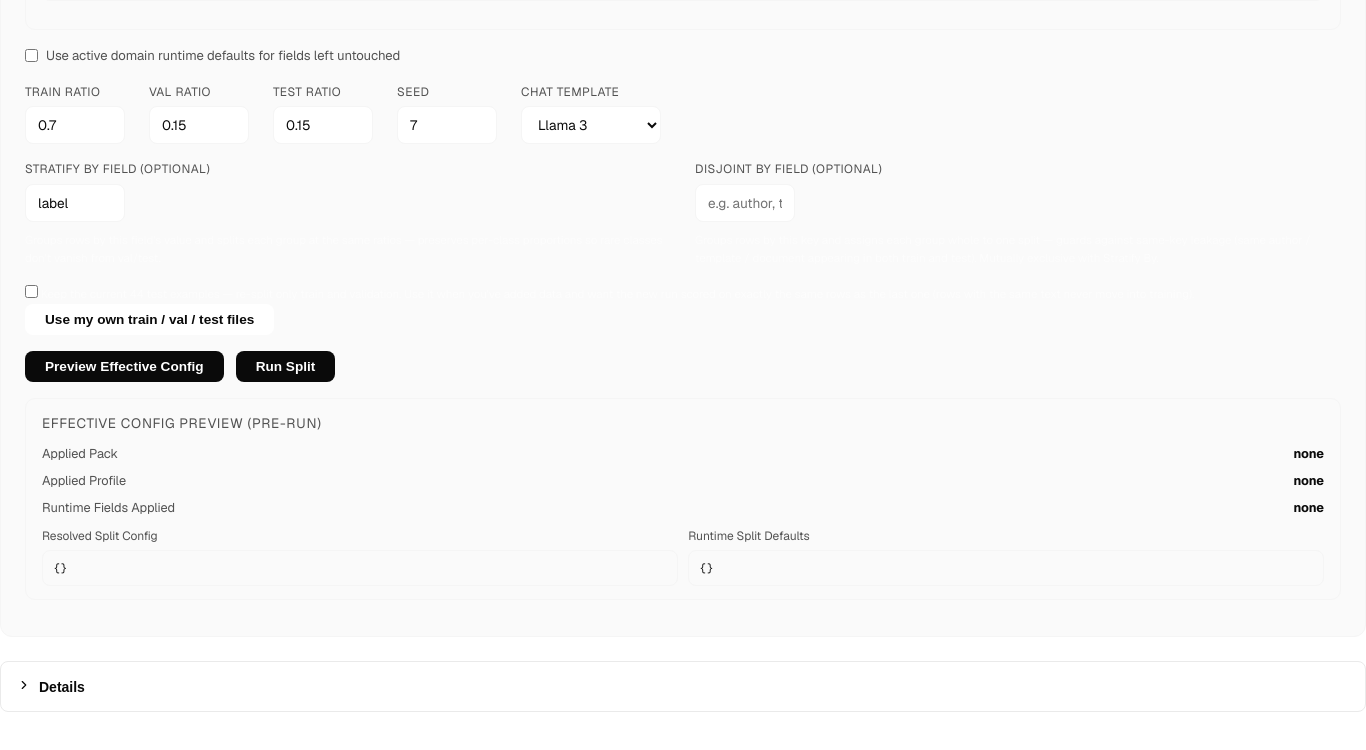
DatasetPrepPanel — split-form hydration from the active prepared version › shows how many rows a random split left out because their input was their answer, by reason
(page scrolled)
Click the button "Run Split" at (285, 367), box [236,351,335,382]
(page scrolled)
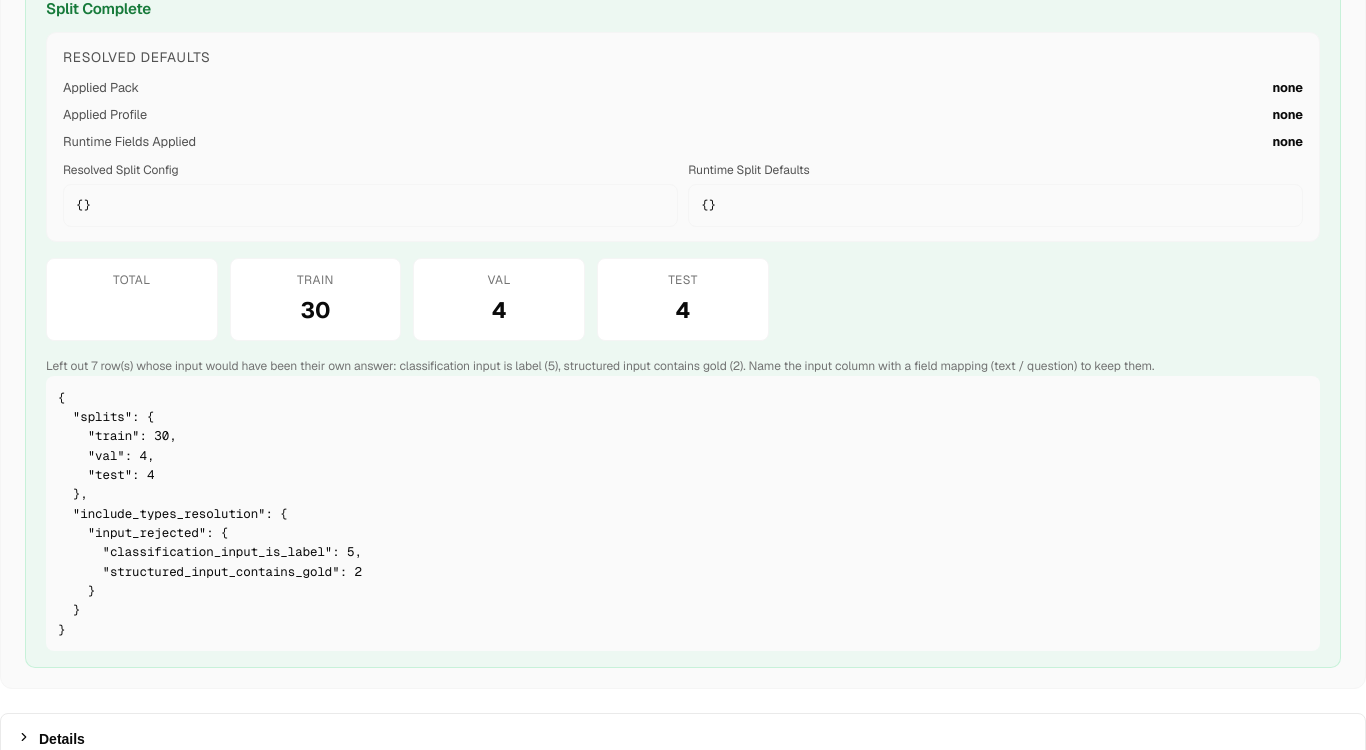
Now the text with test id "dp-input-rejected-note" shows "Left out 7 row(s)", box [46,357,1320,376]
Now the text with test id "dp-input-rejected-note" shows "classification input is label (5)", box [399,358,743,374]
Now the text with test id "dp-input-rejected-note" shows "structured input contains gold (2)", box [399,358,743,374]
